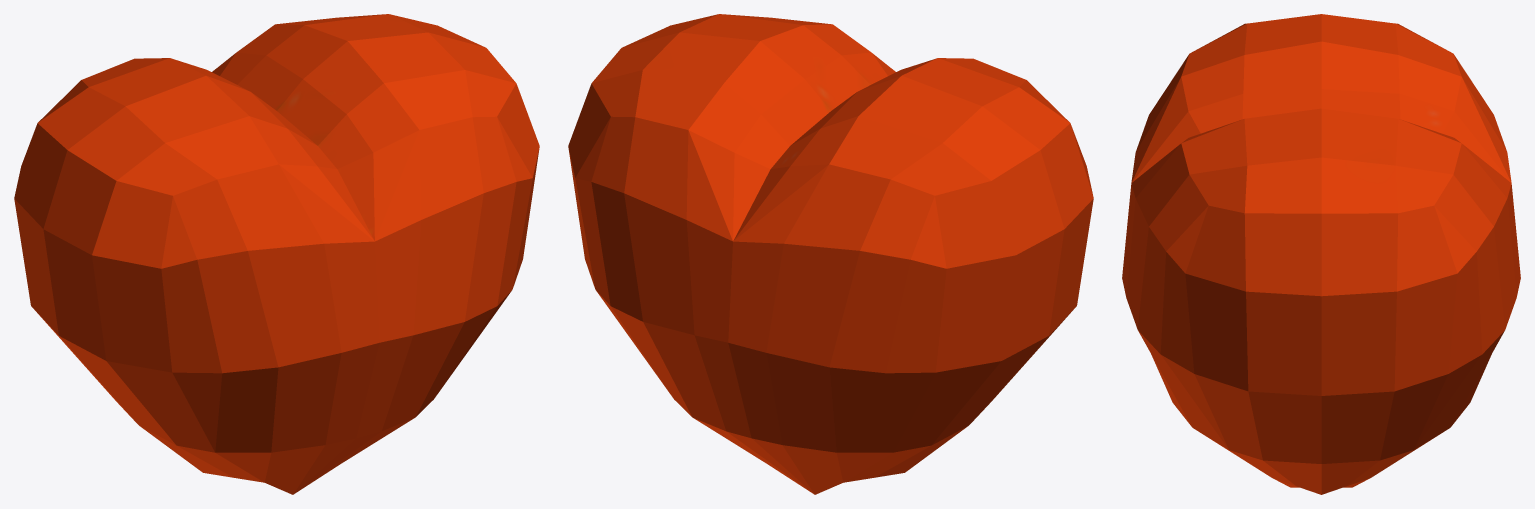
The model's file is Dropeable_Vida.obj.
3 renders of one model, left to right at view 1: azimuth 30°, elevation 25°; view 2: azimuth 150°, elevation 25°; view 3: azimuth 270°, elevation 25°, orthographic. The views are drawn at different scales.
Parts seen in each view (by area): view 1: Corazon.001; view 2: Corazon.001; view 3: Corazon.001.
Part boxes in pixels (x1,y1,x2,y2): Corazon.001: [14, 14, 539, 494]; Corazon.001: [568, 14, 1093, 494]; Corazon.001: [1122, 14, 1520, 494].
Bounding box in the file's own units: 1.96 × 1.7 × 1.49.
Materials: 1 (1 with a texture image).
